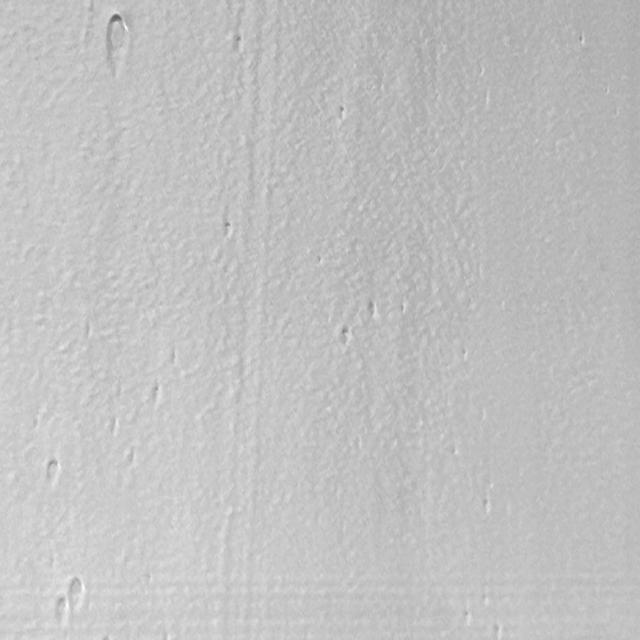pin holes: (99, 8, 134, 82), (40, 456, 62, 488), (67, 576, 88, 609), (49, 596, 70, 627), (336, 322, 356, 349), (477, 493, 497, 519), (362, 299, 382, 324), (231, 34, 249, 58), (149, 382, 166, 406), (335, 102, 352, 124), (490, 621, 506, 640), (460, 610, 475, 627), (223, 221, 236, 239), (577, 33, 589, 51)
